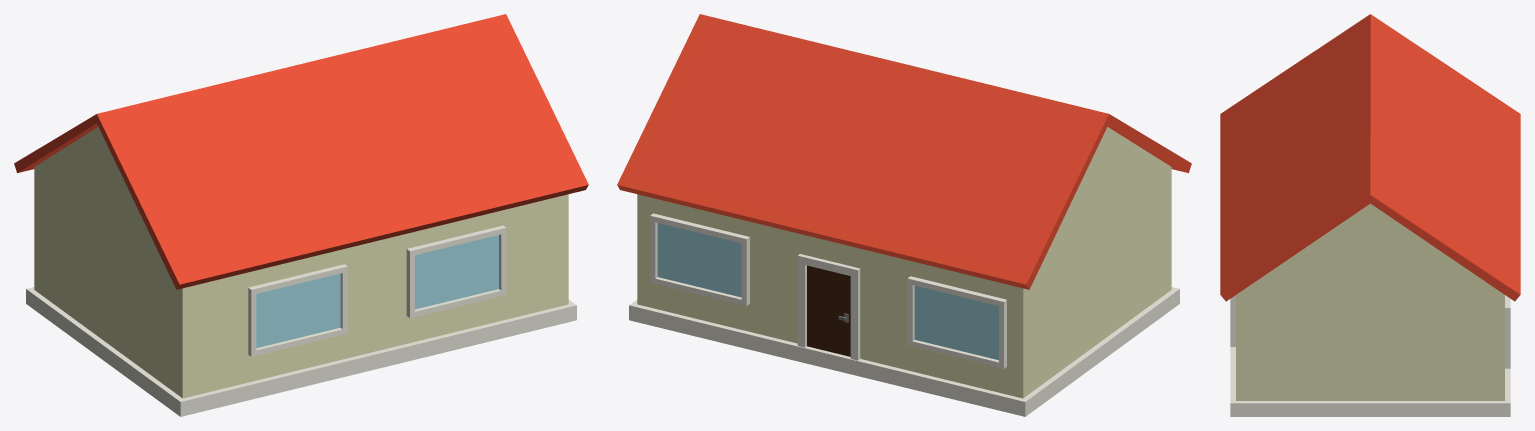
The picture shows the model from 3 angles, left to right: view 1: azimuth 30°, elevation 25°; view 2: azimuth 150°, elevation 25°; view 3: azimuth 270°, elevation 25°; orthographic projection. The views are drawn at different scales.
Visible parts, largest first — view 1: Rect-1; view 2: Rect-1; view 3: Rect-1.
Boxes of the visible parts, x1,y1,x2,y2 form: Rect-1: (14, 14, 588, 416); Rect-1: (617, 14, 1191, 416); Rect-1: (1220, 14, 1520, 416).
Bounding box in the file's own units: 10.58 × 6.13 × 7.42.
